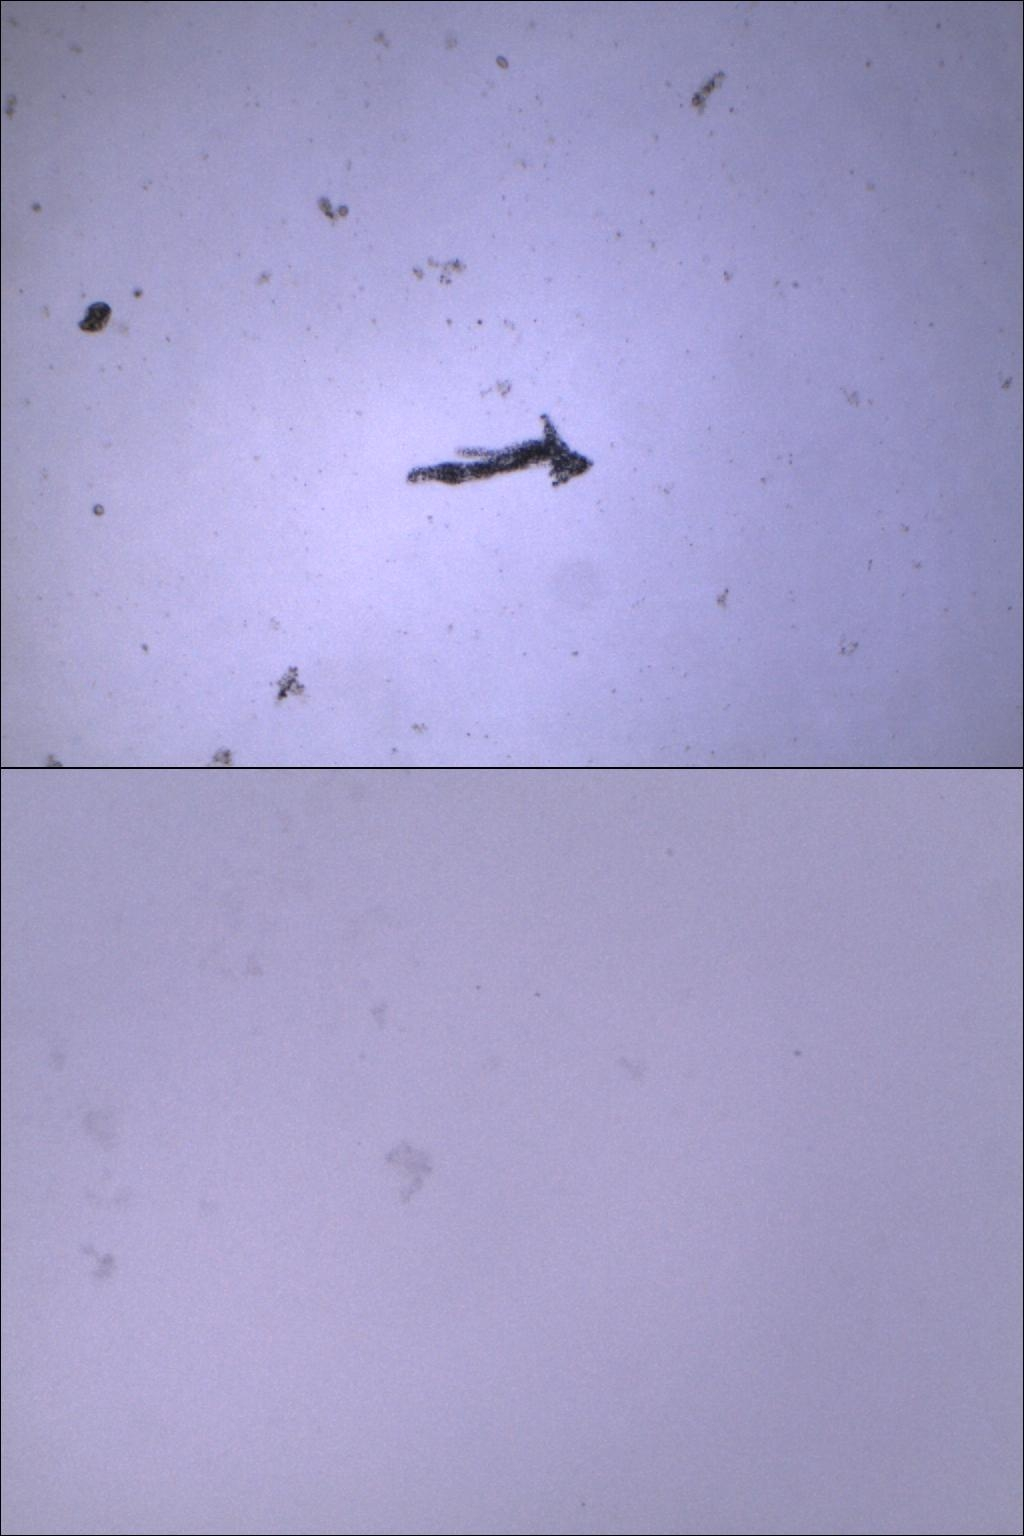N.Fowleri Amoeba: (369, 1128, 451, 1229)
Proteus Amoeba: (397, 403, 614, 511)
